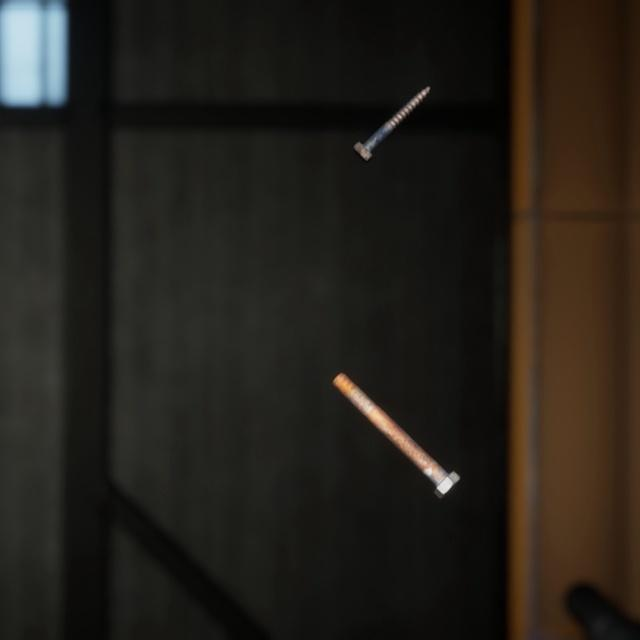bolt: (328, 349, 464, 483), (348, 70, 435, 155)
